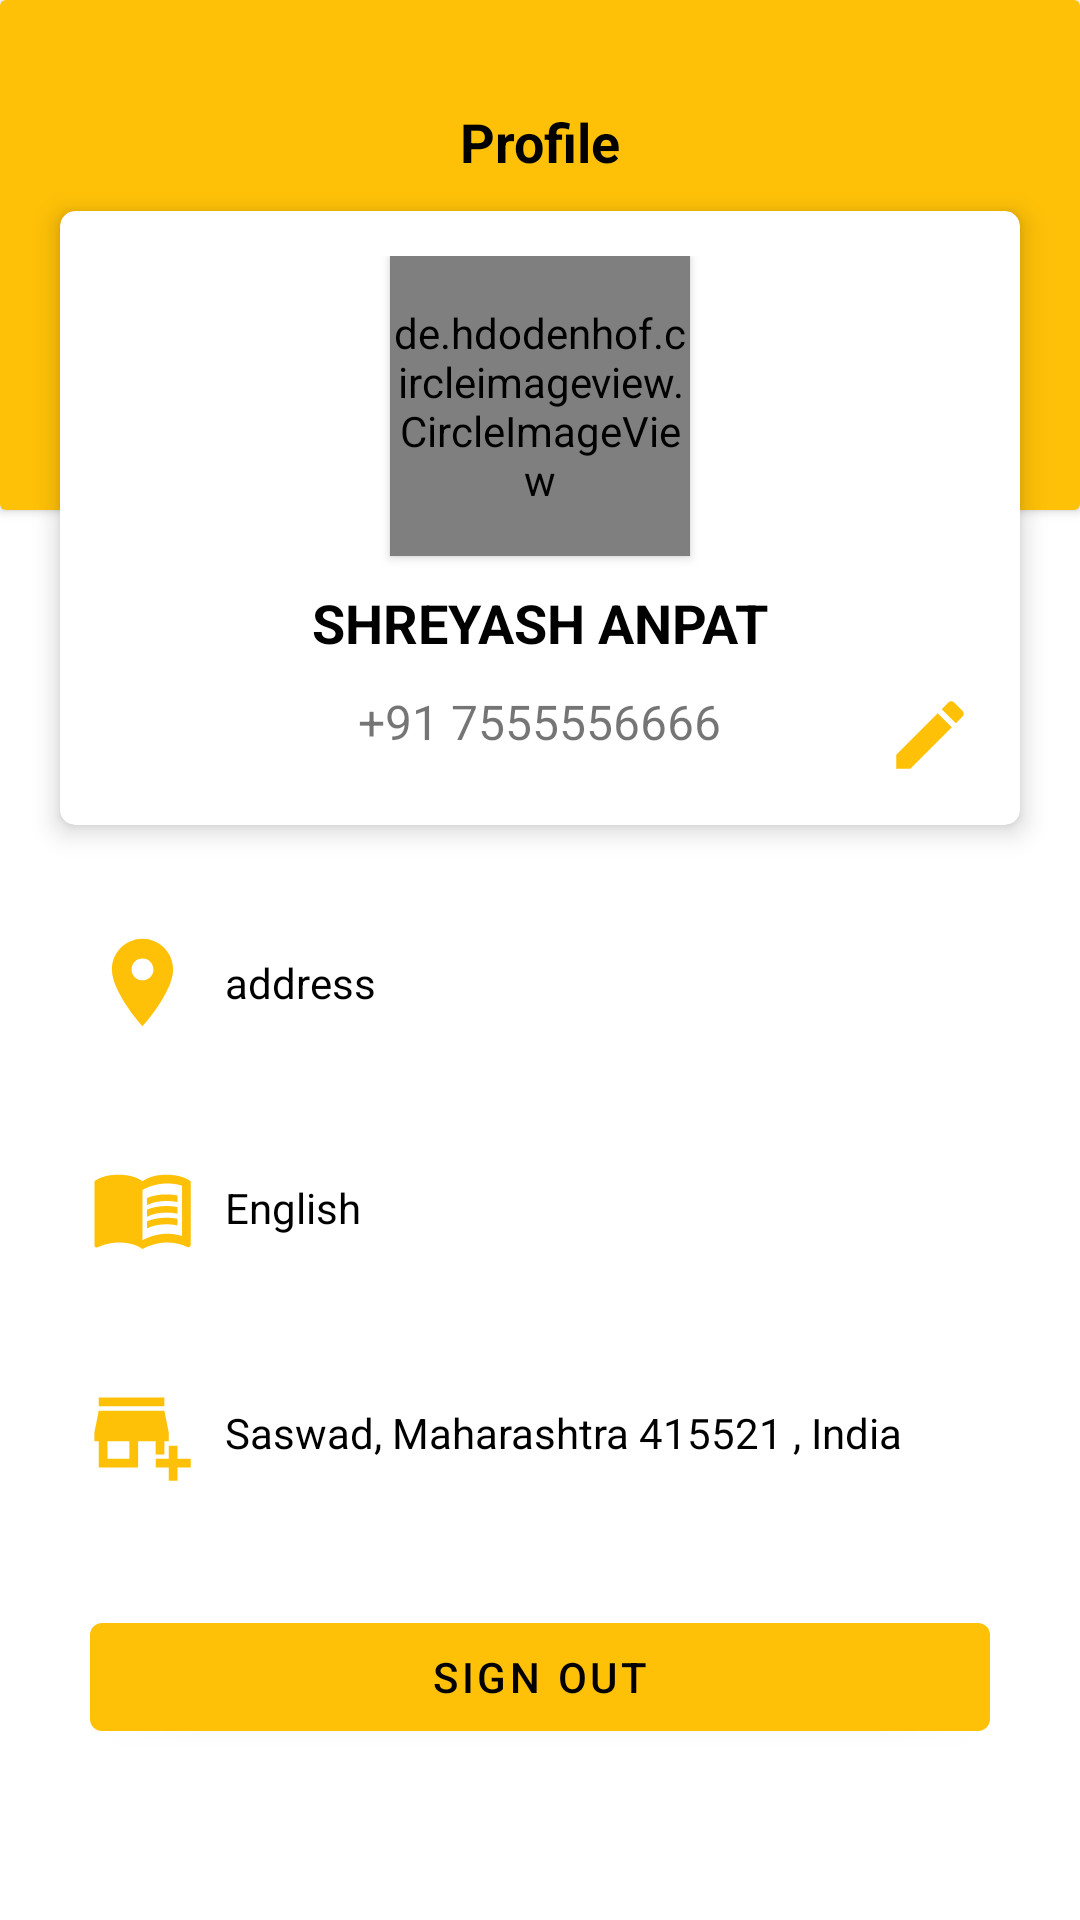

Screen size 1080w x 1920h. Icon name, then its box in pixels as [x1=x1, y1=y1, x2=x2, y2=y2]:
add business: [x1=94, y1=1397, x2=191, y2=1481]
book: [x1=94, y1=1174, x2=191, y2=1249]
edit: [x1=896, y1=701, x2=964, y2=769]
location on: [x1=111, y1=938, x2=174, y2=1026]
